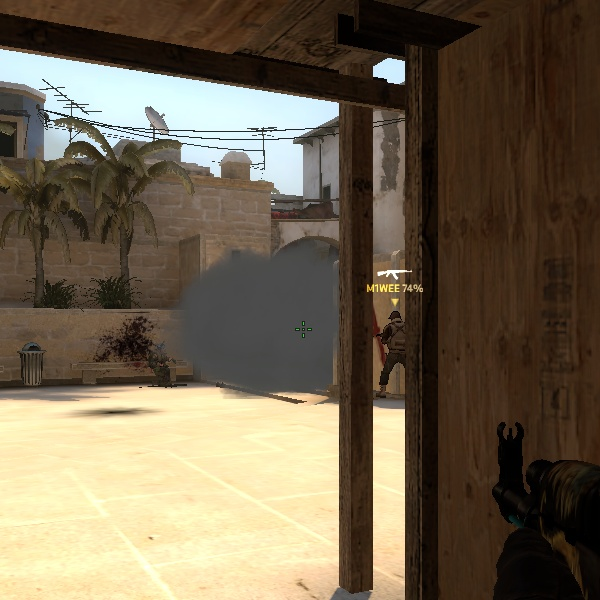t_body: (369, 303, 418, 397)
t_head: (385, 307, 404, 327)
